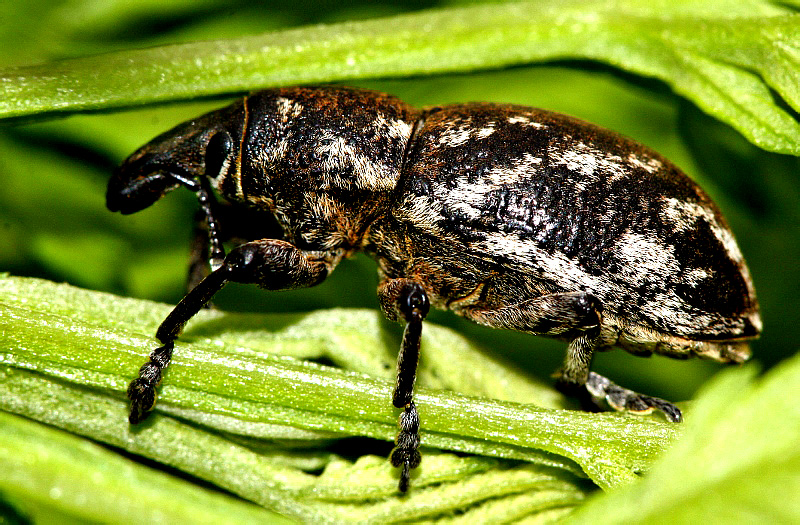dolgonosik: (101, 87, 769, 500)
